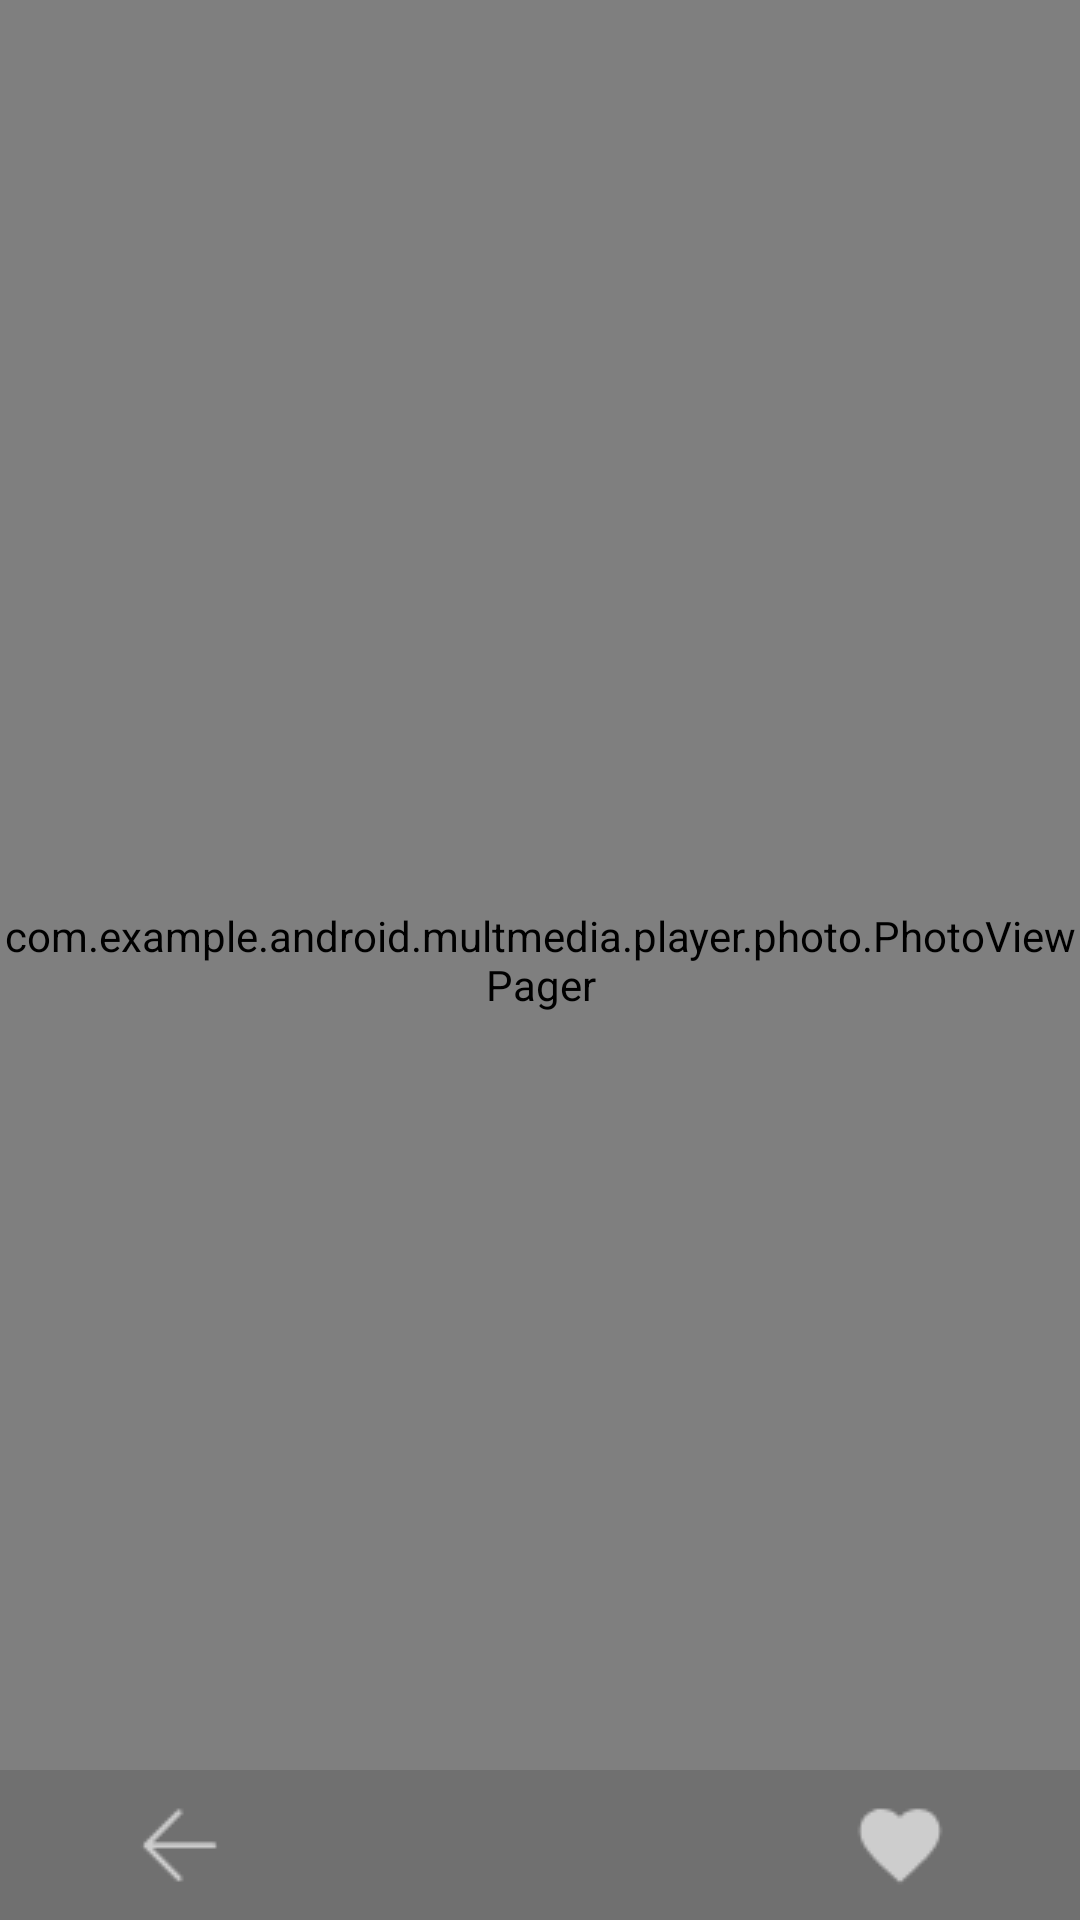

Screen size 1080 × 1920. Icon name, then its center in pixels as [x,y]:
favorite: [900,1845]
return: [180,1845]
